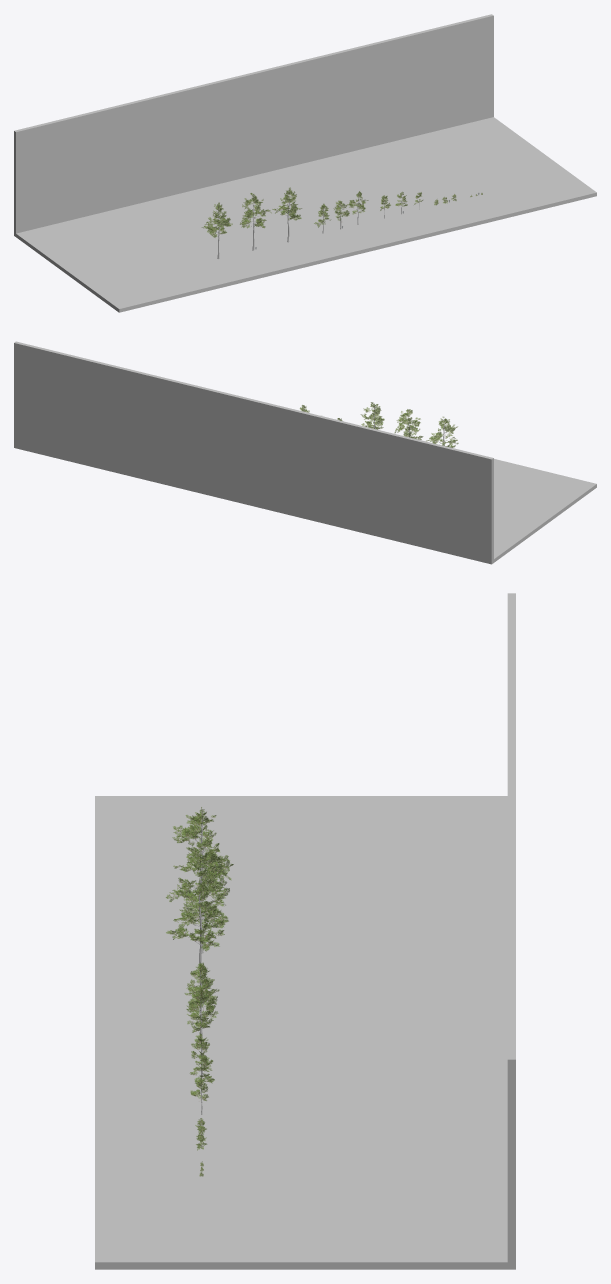
3 renders of one model, top to bottom at view 1: azimuth 30°, elevation 25°; view 2: azimuth 150°, elevation 25°; view 3: azimuth 270°, elevation 25°, orthographic. The views are drawn at different scales.
Visible parts, largest first — view 1: Back, Pine_large_2_LOD0, Pine_large_1_LOD0, Pine_large_3_LOD0; view 2: Back, Pine_large_2_LOD0, Pine_large_1_LOD0, Pine_large_3_LOD0; view 3: Back, Pine_large_2_LOD0, Pine_large_3_LOD0, Pine_large_1_LOD0.
Part boxes in pixels (left/top/right/bottom): Back: left=14, top=14, right=596, bottom=312; Pine_large_2_LOD0: left=240, top=193, right=271, bottom=250; Pine_large_1_LOD0: left=201, top=202, right=232, bottom=259; Pine_large_3_LOD0: left=272, top=187, right=301, bottom=242; Back: left=14, top=341, right=596, bottom=564; Pine_large_2_LOD0: left=394, top=409, right=423, bottom=439; Pine_large_1_LOD0: left=426, top=416, right=458, bottom=447; Pine_large_3_LOD0: left=360, top=402, right=384, bottom=429; Back: left=95, top=593, right=515, bottom=1269; Pine_large_2_LOD0: left=166, top=840, right=229, bottom=953; Pine_large_3_LOD0: left=166, top=881, right=228, bottom=987; Pine_large_1_LOD0: left=172, top=807, right=233, bottom=919.
Size of what is drawn, in the model's own units: 274 by 57.54 by 104.
